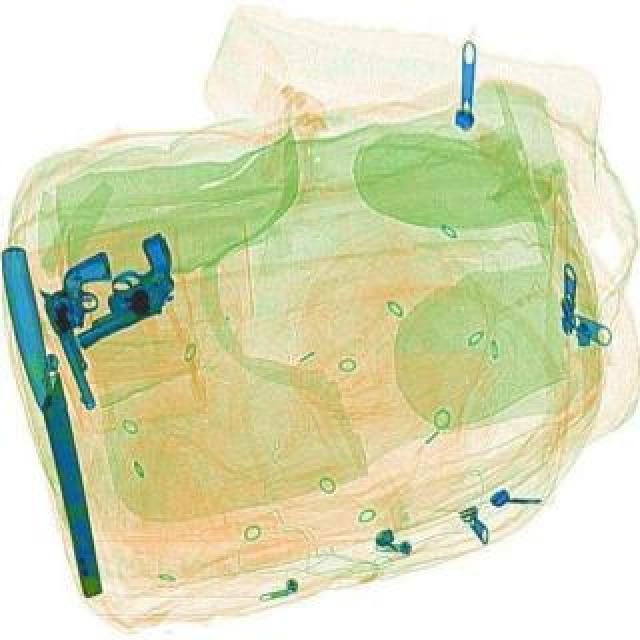gun: (32, 248, 156, 408), (44, 228, 198, 348)
knife: (0, 258, 110, 596)
